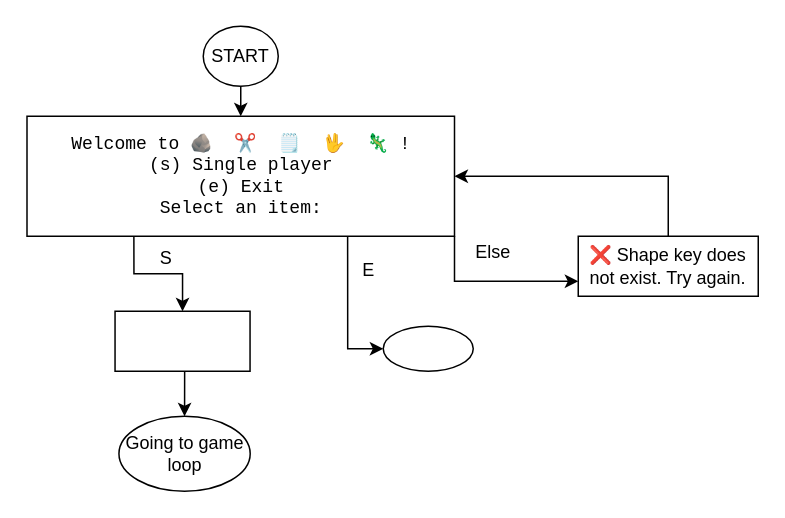
Image size: 785x518. Some labels were removed from this diagram. The shapes that lost their labels are listed below. From the top down, each one's box as (x1, y1, x2, y2) in pixels, then its label:
(114, 310, 250, 371): Starting game 🎉
(382, 325, 473, 371): END
